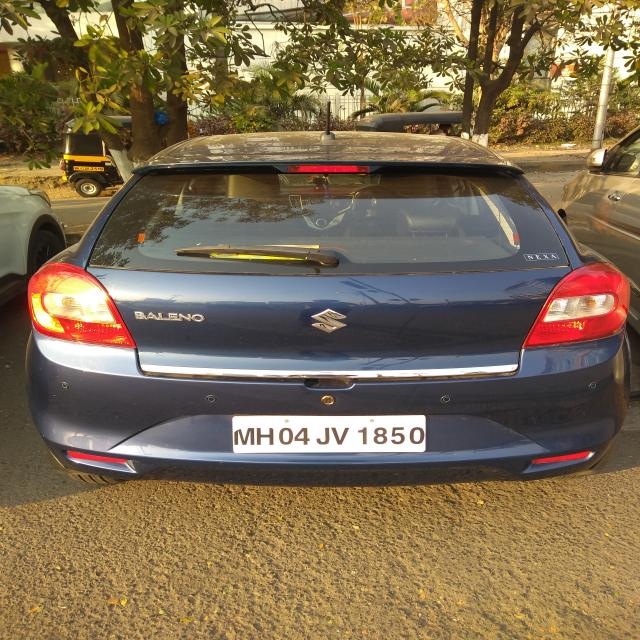Number-Plate: (228, 418, 432, 451)
